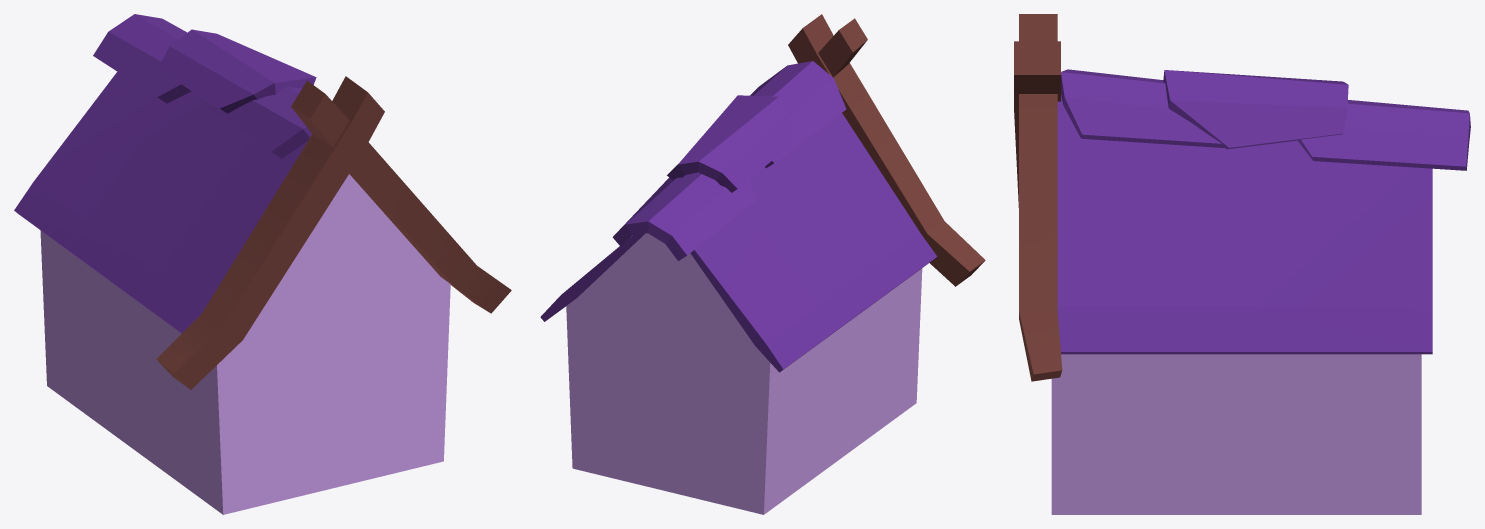
Rendered from BuildingRoof_Window_01.fbx.
3 views of the same model, side by side, from view 1: azimuth 30°, elevation 25°; view 2: azimuth 150°, elevation 25°; view 3: azimuth 270°, elevation 25° (orthographic). The views are drawn at different scales.
Parts seen in each view (by area): view 1: BuildingRoofWidnow_01; view 2: BuildingRoofWidnow_01; view 3: BuildingRoofWidnow_01.
Part boxes in pixels (x1,y1,x2,y2): BuildingRoofWidnow_01: [14, 14, 511, 514]; BuildingRoofWidnow_01: [540, 14, 985, 514]; BuildingRoofWidnow_01: [1014, 14, 1470, 514].
Size of the model in its own units: 275 by 314 by 300.
